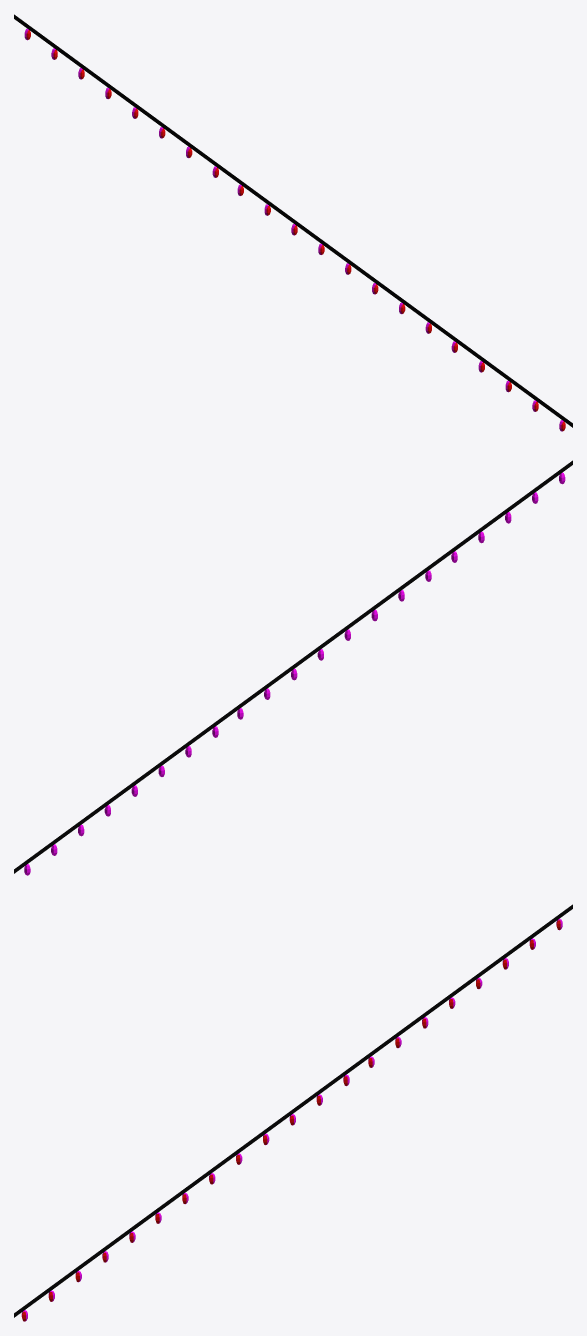
Rendered from Normal_Lights.fbx.
3 renders of one model, top to bottom at view 1: azimuth 30°, elevation 25°; view 2: azimuth 150°, elevation 25°; view 3: azimuth 330°, elevation 25°, orthographic.
Visible parts, largest first — view 1: Geo_Normal_Lights; view 2: Geo_Normal_Lights; view 3: Geo_Normal_Lights.
Boxes of the visible parts, left/top/right/bottom form: Geo_Normal_Lights: left=14, top=14, right=572, bottom=431; Geo_Normal_Lights: left=14, top=460, right=572, bottom=875; Geo_Normal_Lights: left=14, top=904, right=572, bottom=1321.
Bounding box in the file's own units: 1.72 × 4.98 × 312.
1 material, 1 textured.
